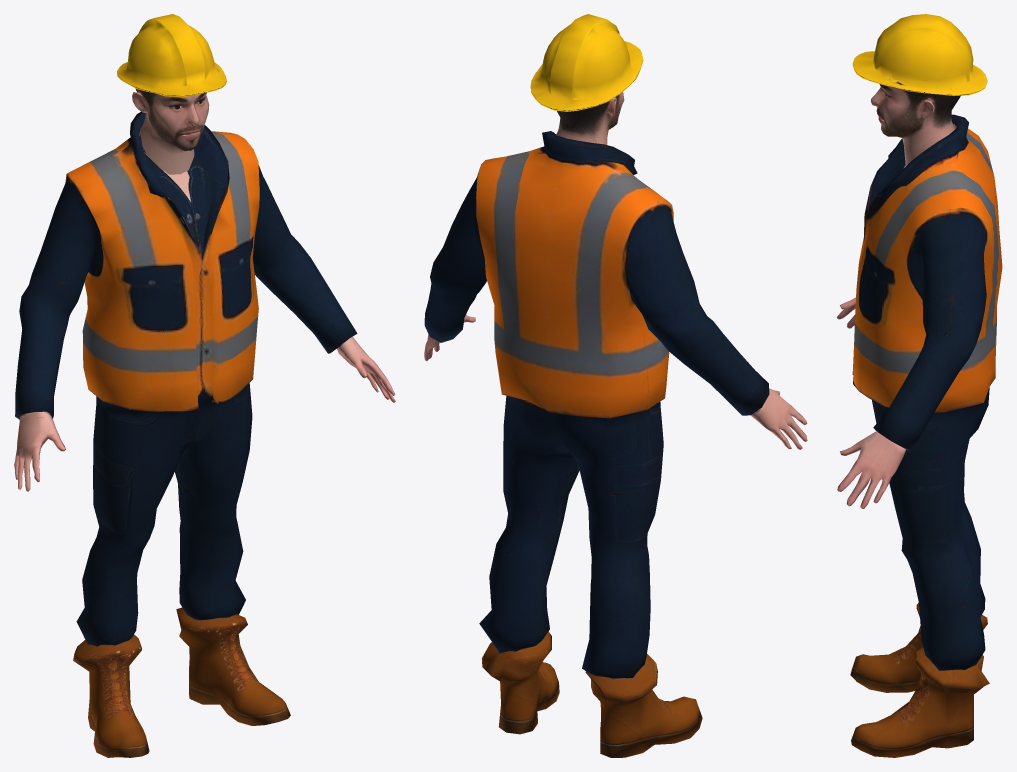
The model's file is meshy-npc-road-worker.glb.
3 views of the same model, side by side, from view 1: azimuth 30°, elevation 25°; view 2: azimuth 150°, elevation 25°; view 3: azimuth 270°, elevation 25° (orthographic).
Size of the model in its own units: 0.5545 by 0.9996 by 0.2162.
1 material, 1 textured.
